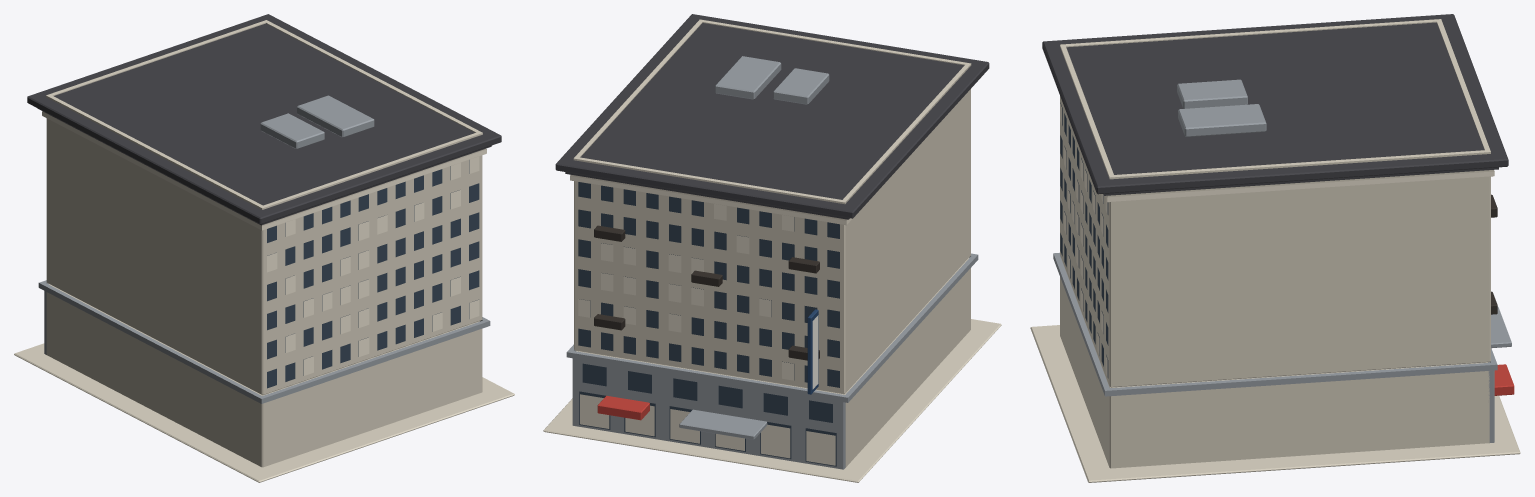
The model's file is 191-sutter-street.glb.
The picture shows the model from 3 angles, left to right: view 1: azimuth 30°, elevation 25°; view 2: azimuth 150°, elevation 25°; view 3: azimuth 270°, elevation 25°; orthographic projection. The views are drawn at different scales.
Parts seen in each view (by area): view 1: 191-sutter-street_body, 191-sutter-street_night_glow; view 2: 191-sutter-street_body, 191-sutter-street_night_glow; view 3: 191-sutter-street_body, 191-sutter-street_night_glow.
Part boxes in pixels (box(x1,y1,x2,y2)): 191-sutter-street_body: box(14, 14, 514, 482); 191-sutter-street_night_glow: box(42, 111, 486, 375); 191-sutter-street_body: box(543, 14, 1001, 482); 191-sutter-street_night_glow: box(570, 176, 852, 465); 191-sutter-street_body: box(1030, 14, 1520, 482); 191-sutter-street_night_glow: box(1060, 103, 1494, 377).
Bounding box in the file's own units: 41.83 × 32.1 × 47.23.
